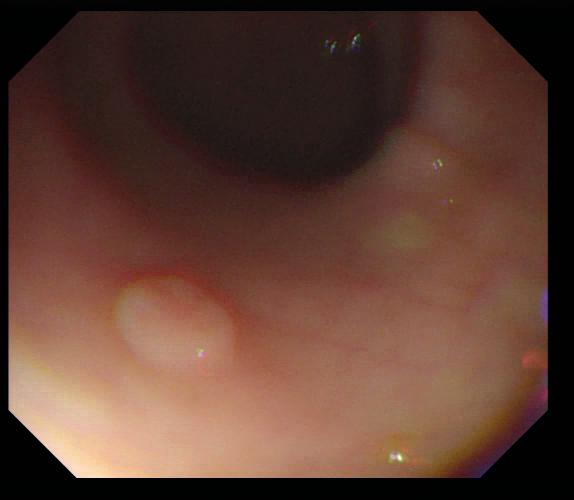polyp: (110, 269, 237, 381)
